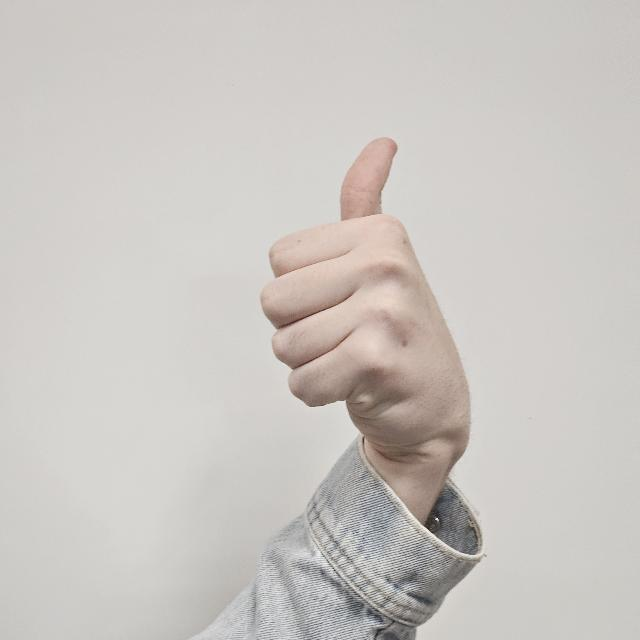Start: (264, 130, 414, 402)
